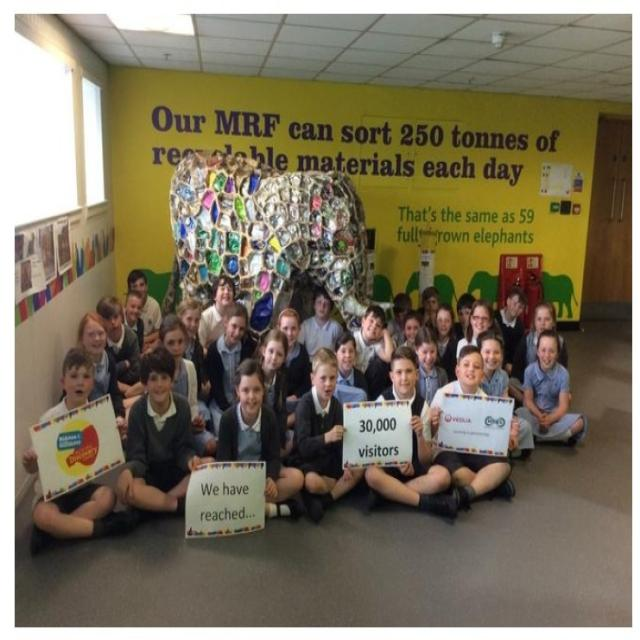body: (18, 341, 118, 545), (115, 345, 217, 519), (360, 344, 460, 518), (427, 341, 520, 514), (215, 357, 307, 525), (286, 346, 367, 524), (157, 311, 219, 458), (513, 328, 589, 444), (475, 329, 536, 464), (506, 297, 569, 408), (206, 301, 254, 440), (75, 310, 127, 431), (174, 295, 217, 437), (94, 293, 143, 396), (276, 306, 314, 431), (256, 326, 289, 451), (296, 284, 344, 363), (197, 274, 241, 359), (491, 284, 528, 378), (411, 322, 452, 406), (350, 302, 396, 375), (124, 268, 163, 346), (454, 298, 496, 367), (332, 330, 370, 394), (432, 303, 458, 383), (384, 292, 416, 348), (123, 287, 147, 354), (452, 293, 478, 341), (396, 310, 424, 352), (416, 285, 442, 329)
